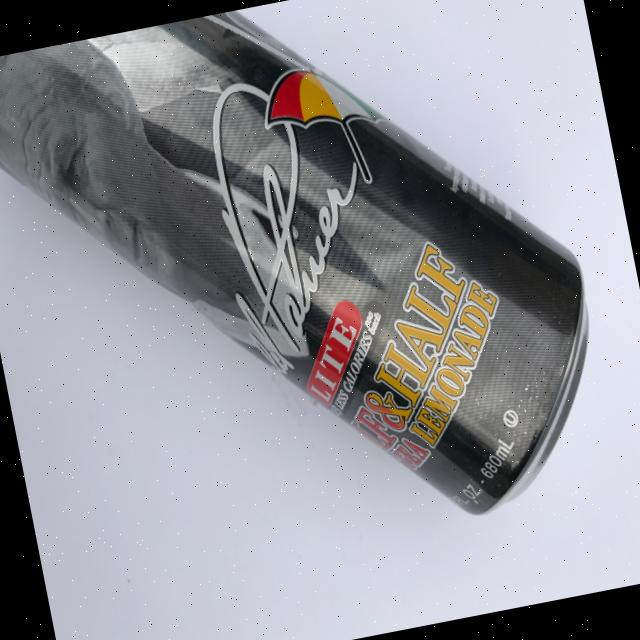metal: (0, 0, 624, 600)
